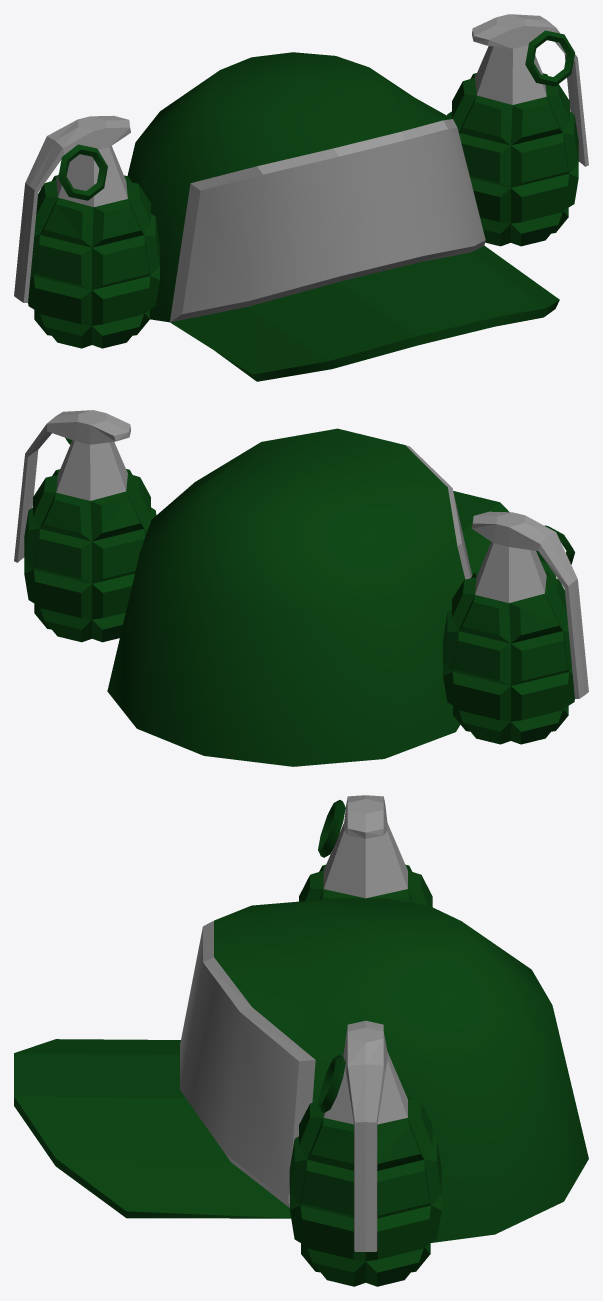
Rendered from hat_granade.FBX.
The picture shows the model from 3 angles, top to bottom: view 1: azimuth 30°, elevation 25°; view 2: azimuth 150°, elevation 25°; view 3: azimuth 270°, elevation 25°; orthographic projection. The views are drawn at different scales.
Parts seen in each view (by area): view 1: Cylinder001; view 2: Cylinder001; view 3: Cylinder001.
Part boxes in pixels (box(x1,y1,x2,y2)): Cylinder001: box(14, 14, 588, 381); Cylinder001: box(14, 410, 588, 766); Cylinder001: box(14, 795, 588, 1286).
Bounding box in the file's own units: 63.38 × 49.76 × 23.06.
